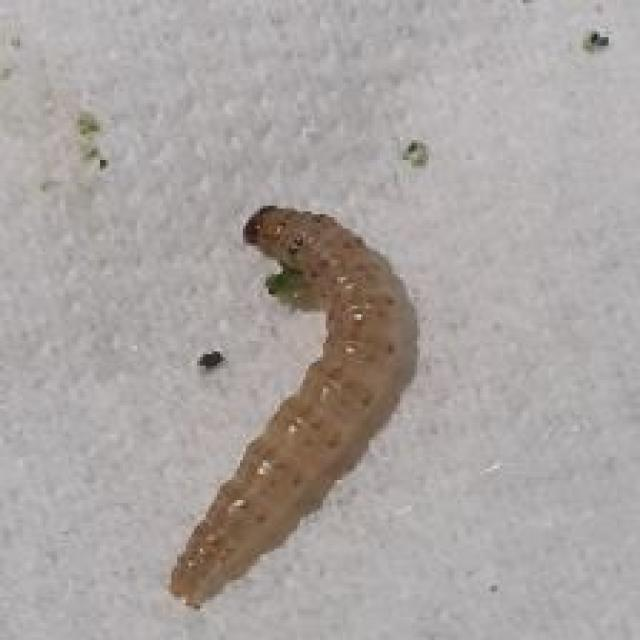white mucus: (153, 140, 422, 605)
